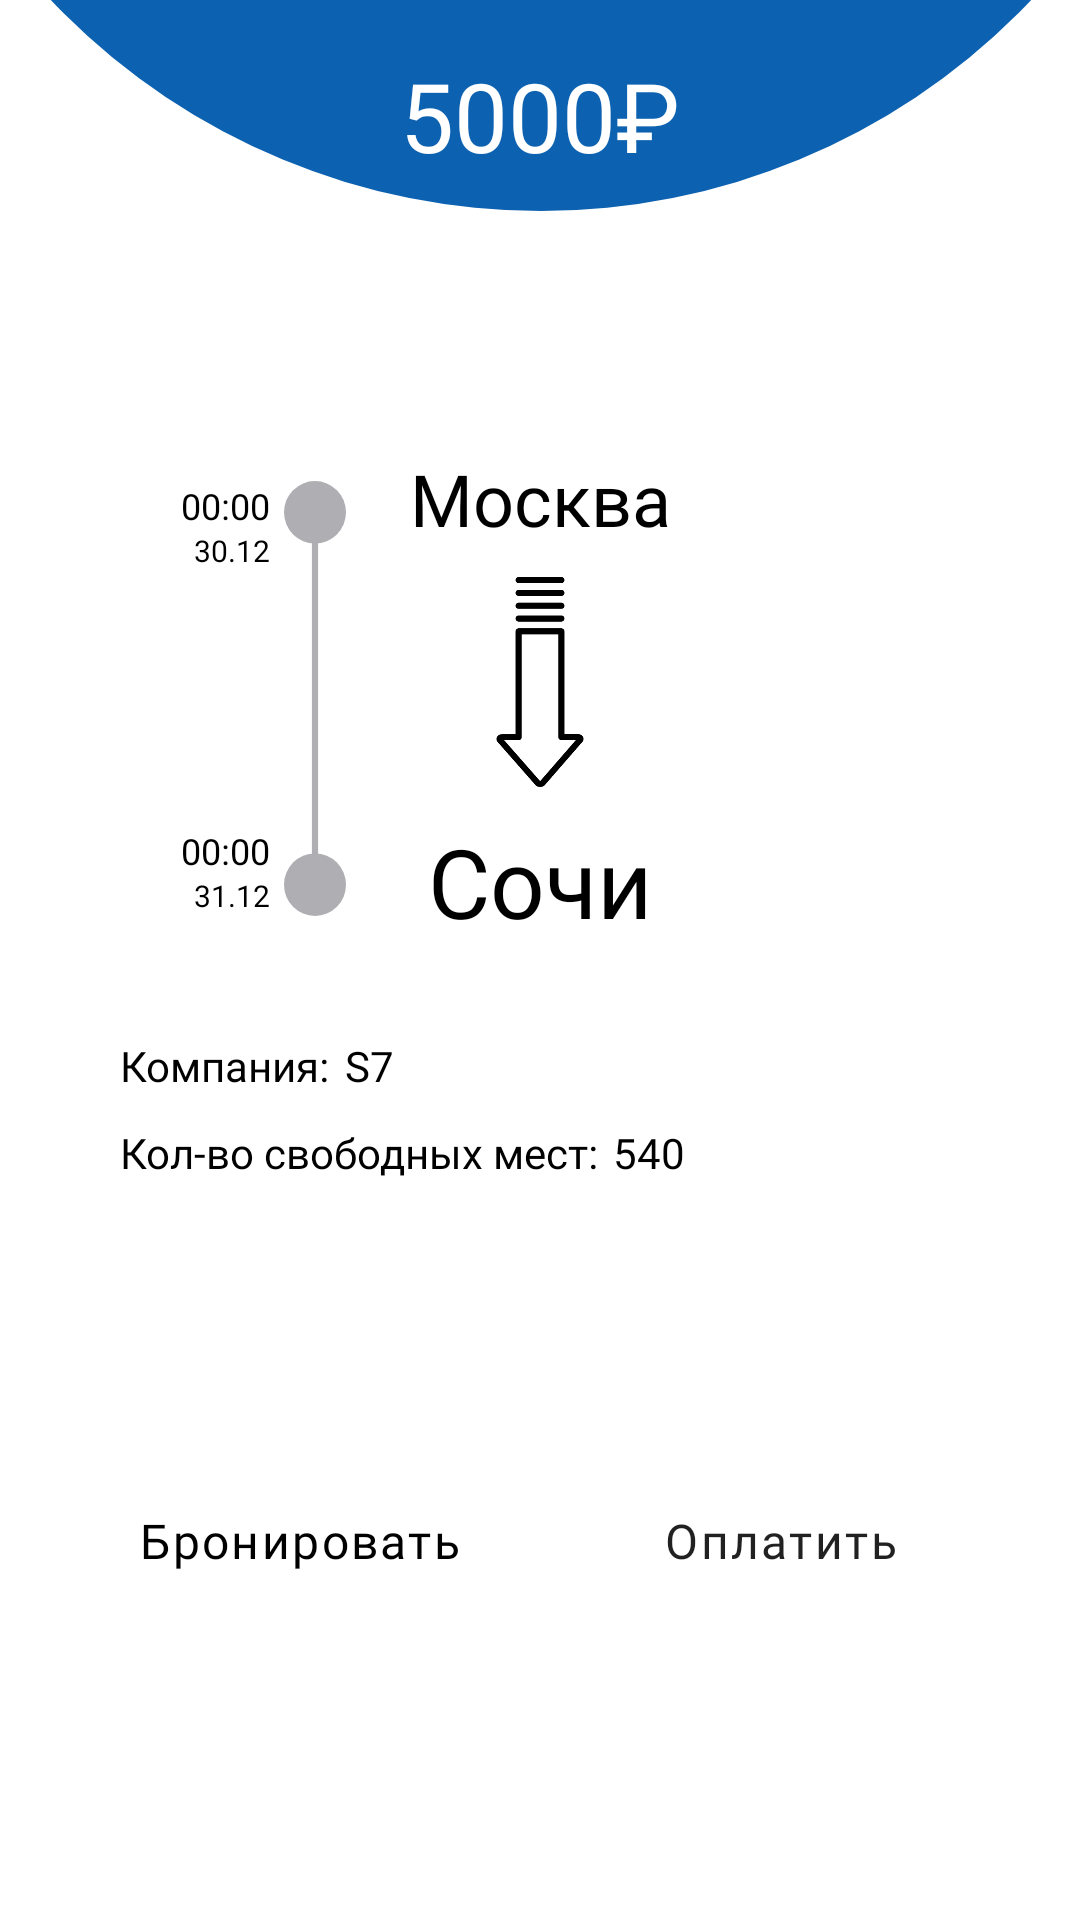

Icon click points for this 1080w x 1920h phone screenshot, format [x,y]:
arrow: [540,682]
